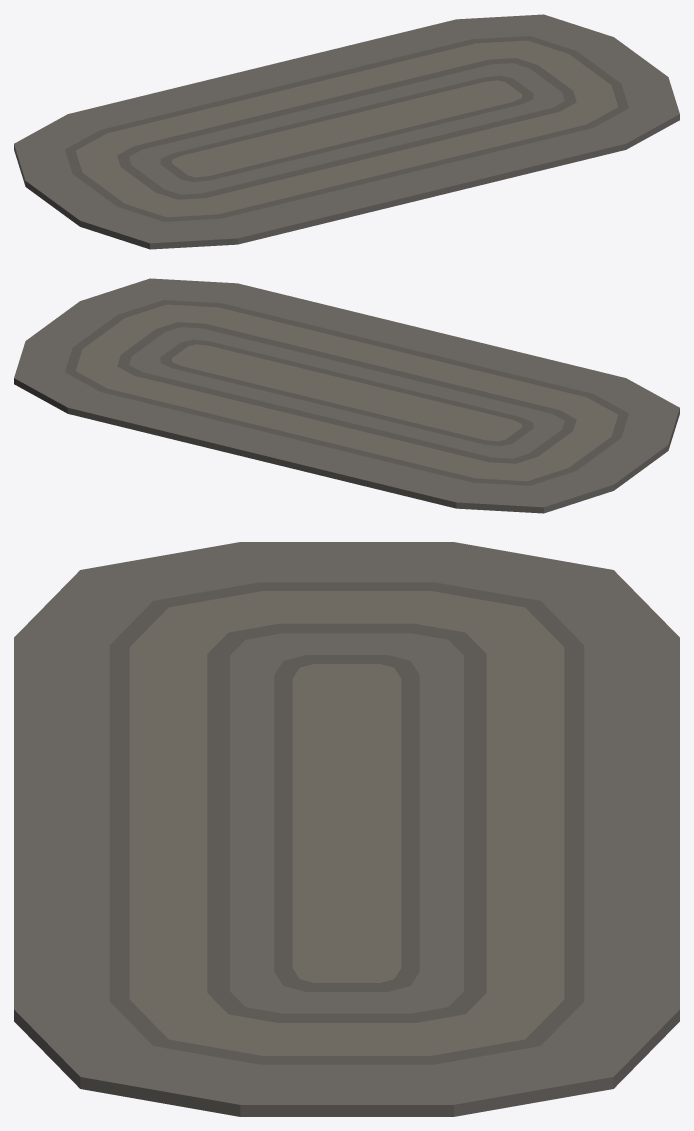
Rendered from SM_Props_Interior_House_Room_Rug_01.fbx.
3 views of the same model, one above another, from view 1: azimuth 30°, elevation 25°; view 2: azimuth 150°, elevation 25°; view 3: azimuth 270°, elevation 25° (orthographic). The views are drawn at different scales.
Visible parts, largest first — view 1: SM_Props_Interior_House_Room_Rug_01; view 2: SM_Props_Interior_House_Room_Rug_01; view 3: SM_Props_Interior_House_Room_Rug_01.
Boxes of the visible parts, bbox=[...] form: SM_Props_Interior_House_Room_Rug_01: bbox=[14, 14, 679, 249]; SM_Props_Interior_House_Room_Rug_01: bbox=[14, 278, 679, 513]; SM_Props_Interior_House_Room_Rug_01: bbox=[14, 542, 679, 1116].
Size of the model in its own units: 200 by 2 by 100.
